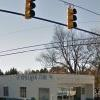Traffic light: (16, 1, 90, 35)
